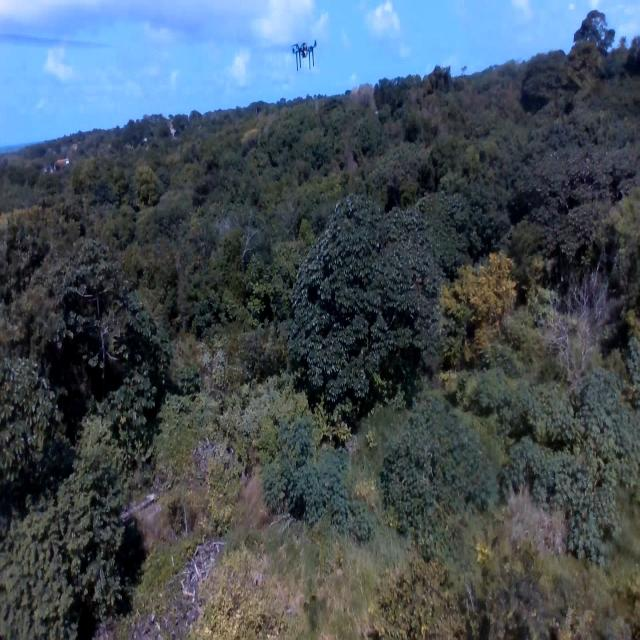-uav-: (287, 32, 321, 77)
